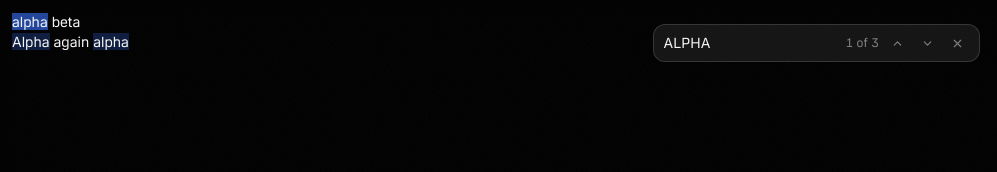
Scenario: ThreadSearchBar › counts matches case-insensitively and walks them with buttons, Enter and Shift+Enter
Earlier steps of the test are not shown.
Later steps or results of the test are not shown.
Expected: the text "1 of 3" is shown, x1=846 y1=35 x2=879 y2=51
Click the button named "Next match".
click(927, 43)  # box x1=915 y1=31 x2=939 y2=55
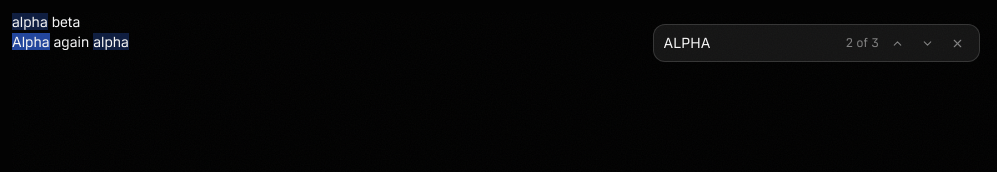
Now the text "2 of 3" is shown, box x1=846 y1=35 x2=879 y2=51
Click the button named "Next match".
click(927, 43)  # box x1=915 y1=31 x2=939 y2=55
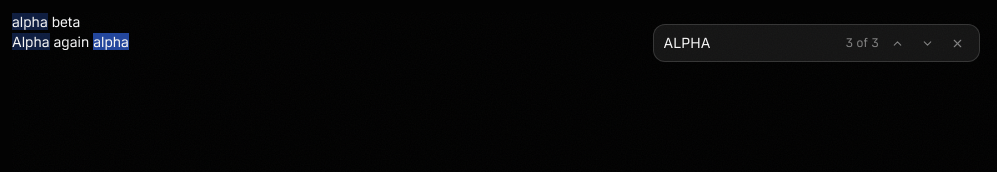
Click the button named "Next match".
click(927, 43)  # box x1=915 y1=31 x2=939 y2=55
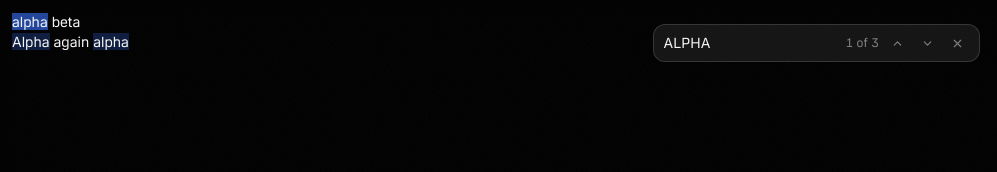
Now the text "1 of 3" is shown, box x1=846 y1=35 x2=879 y2=51
Press Enter in the field named "Find in thread", box x1=664 y1=33 x2=840 y2=53
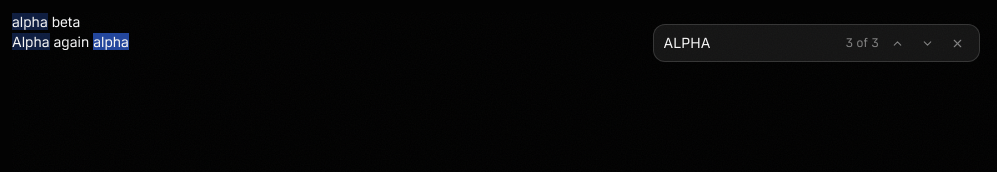
Now the text "3 of 3" is shown, box x1=846 y1=35 x2=879 y2=51
Click the button named "Previous match".
click(897, 43)  # box x1=885 y1=31 x2=909 y2=55
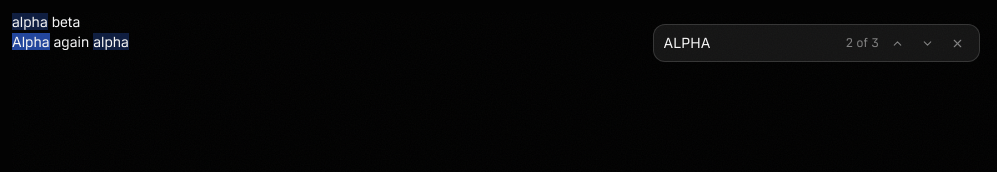
Now the text "2 of 3" is shown, box x1=846 y1=35 x2=879 y2=51
Press Enter in the field named "Find in thread", box x1=664 y1=33 x2=840 y2=53
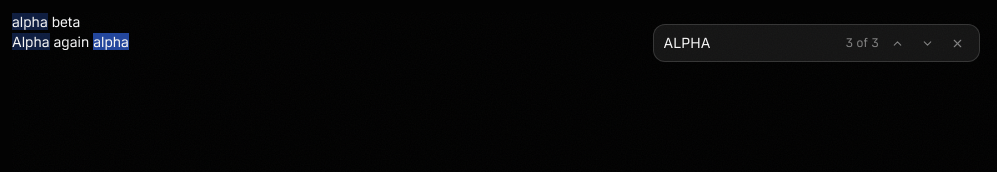
Now the text "3 of 3" is shown, box x1=846 y1=35 x2=879 y2=51
